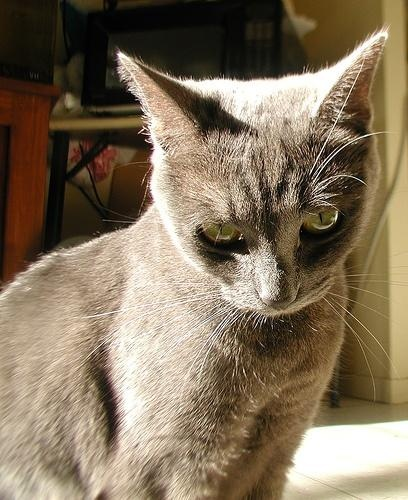cat: (1, 24, 392, 500)
